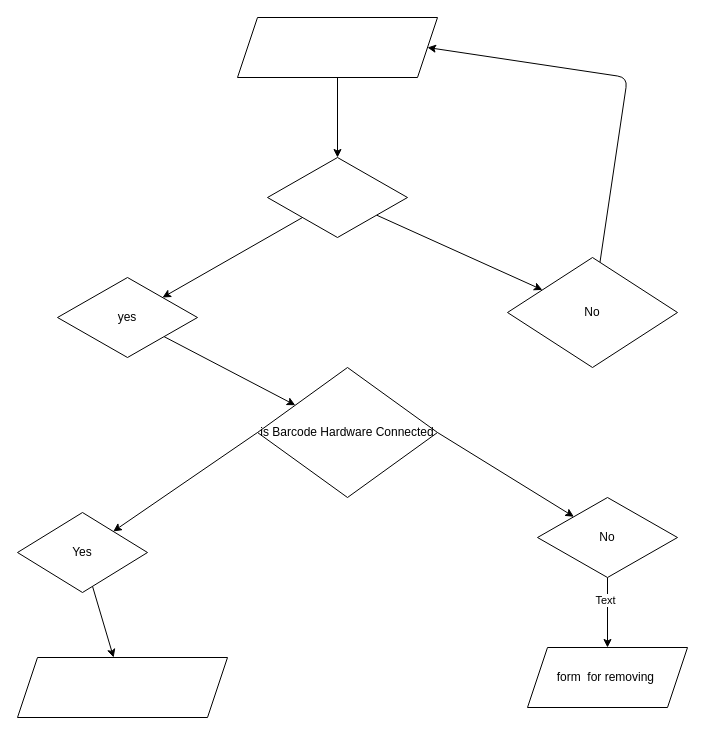
Image size: 705x735. Some labels were removed from this diagram. Each missing label, with the centre of its shape:
"Enter logins" belongs at [337,47].
"Is Client Authenticated" belongs at [337,197].
"Scan barcode" belongs at [122,687].
